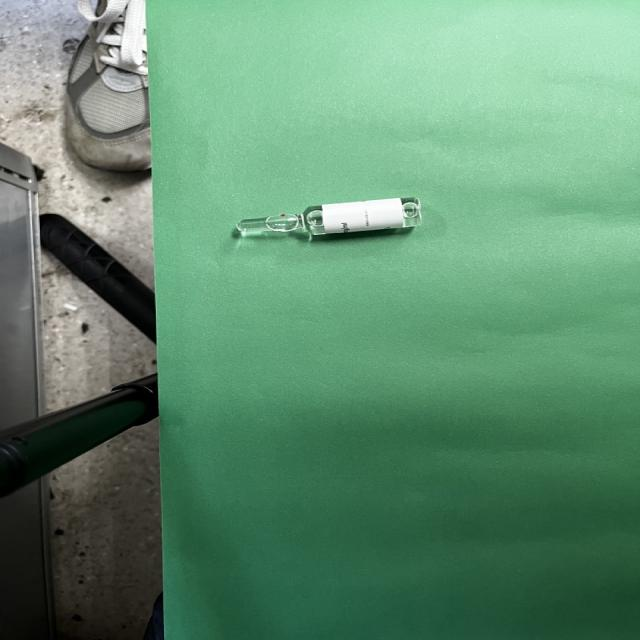Ampoules: (236, 198, 423, 236)
